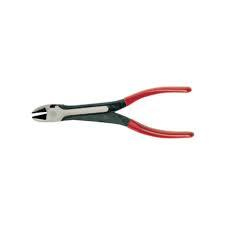pliers: (30, 85, 194, 138)
